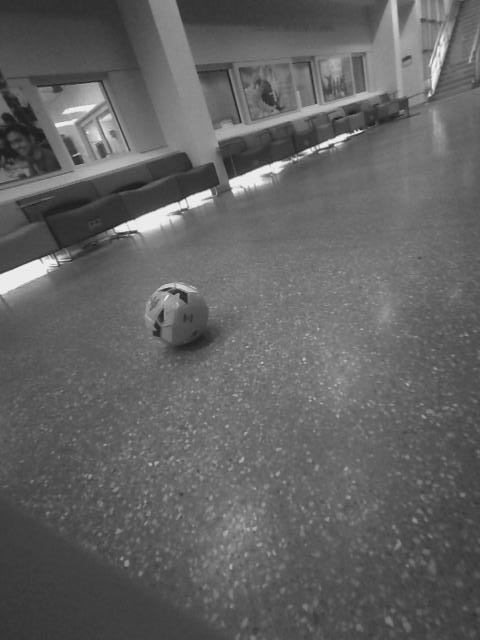ball: (140, 277, 220, 352)
